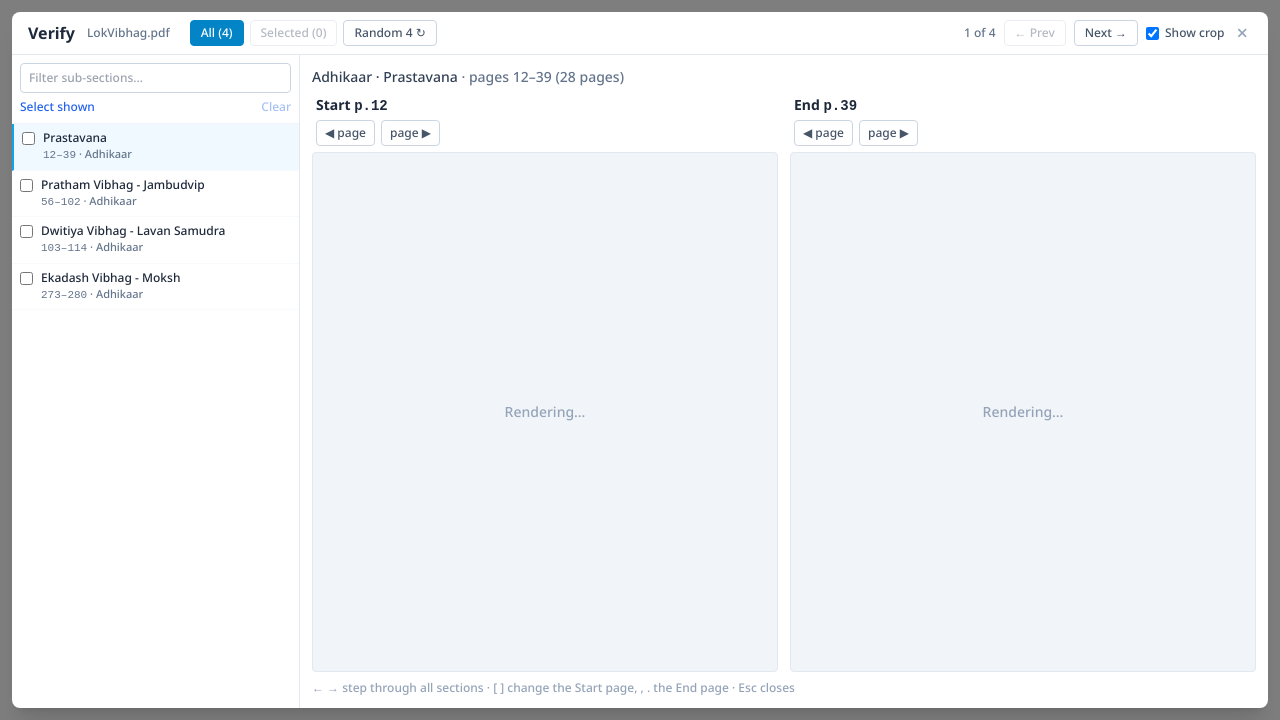
it: clicking a row jumps to that sub-section
Click the text "Ekadash Vibhag - Moksh" at (111, 277), box [41,268,180,286]
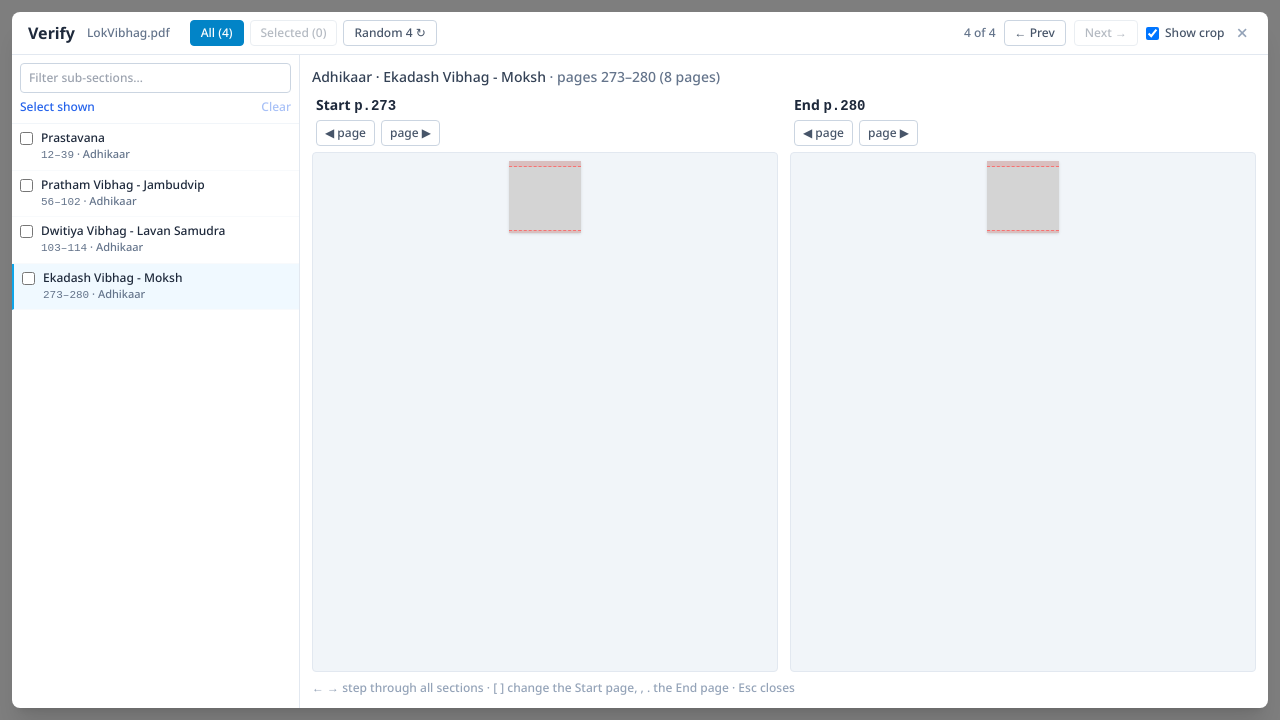
Check: the text with test id "section-label" reads "Adhikaar · Ekadash Vibhag - Moksh", box [312,67,546,86]
